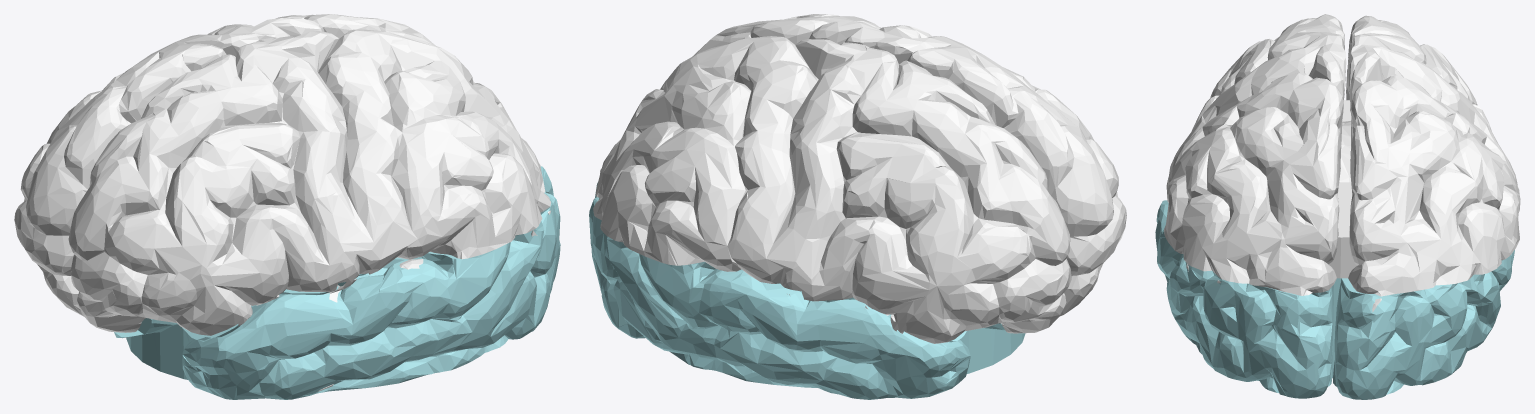
File: tinker.obj
The picture shows the model from 3 angles, left to right: view 1: azimuth 30°, elevation 25°; view 2: azimuth 150°, elevation 25°; view 3: azimuth 270°, elevation 25°; orthographic projection. The views are drawn at different scales.
Parts seen in each view (by area): view 1: group_0_16448250, group_0_11593967; view 2: group_0_16448250, group_0_11593967; view 3: group_0_16448250, group_0_11593967.
Part boxes in pixels (x1,y1,x2,y2): group_0_16448250: [14, 14, 550, 391]; group_0_11593967: [114, 166, 560, 399]; group_0_16448250: [593, 14, 1126, 343]; group_0_11593967: [589, 182, 1025, 399]; group_0_16448250: [1164, 14, 1520, 312]; group_0_11593967: [1155, 200, 1514, 399].
Size of the model in its own units: 51.58 by 30.15 by 39.59.
